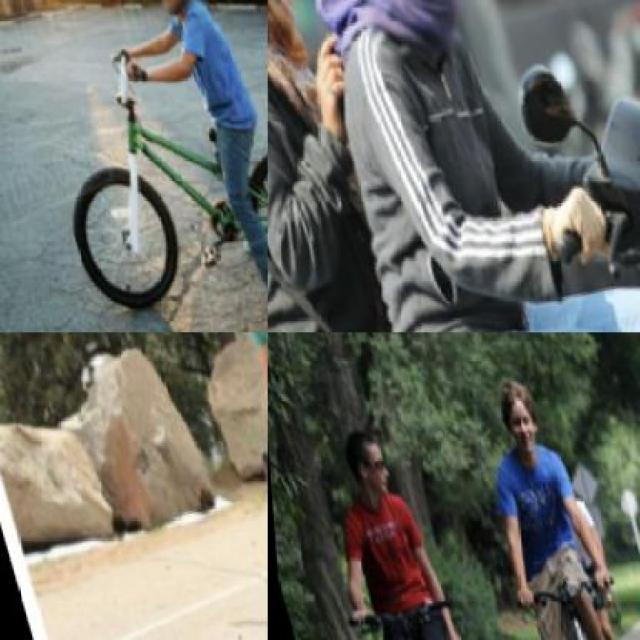With Helmet: (123, 0, 209, 20)
Without Helmet: (309, 0, 487, 72), (479, 370, 552, 459), (332, 416, 394, 498)
